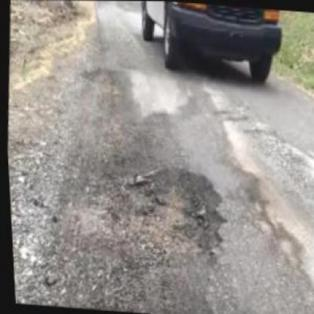Hueco: (111, 162, 232, 267)
